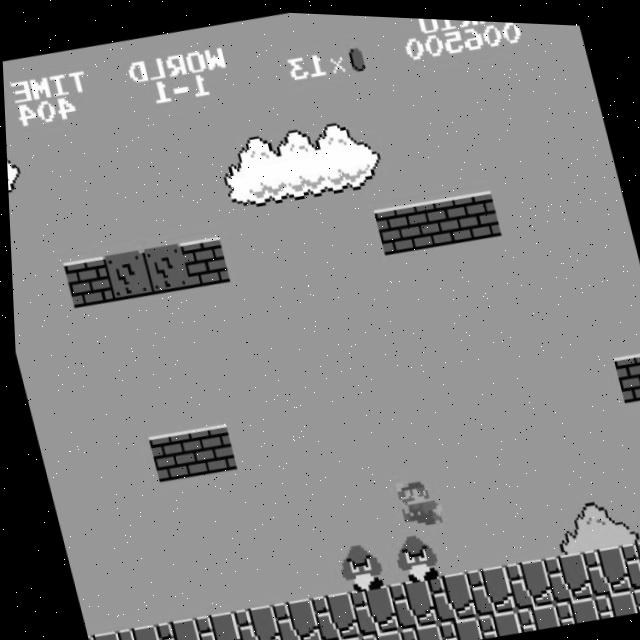1- brick_block: (182, 419, 234, 475), (143, 426, 195, 482), (449, 184, 500, 239), (410, 191, 461, 246), (371, 198, 422, 253), (177, 233, 228, 288), (60, 254, 111, 309), (608, 343, 640, 398)
11- little_mario: (389, 468, 443, 526)
13- mystery_block: (138, 240, 189, 294), (99, 247, 150, 301)
17- undestructible_block: (537, 544, 589, 600), (498, 551, 550, 607), (459, 558, 511, 614), (420, 565, 472, 621), (342, 579, 394, 635), (576, 537, 627, 593), (382, 572, 433, 628), (304, 586, 356, 640), (265, 593, 317, 640), (226, 599, 277, 640), (187, 607, 238, 640), (587, 582, 633, 615), (548, 589, 594, 622), (509, 596, 555, 629), (470, 603, 516, 636), (614, 530, 640, 585), (431, 610, 477, 640), (148, 613, 199, 640), (393, 617, 439, 640), (110, 620, 160, 640), (353, 624, 399, 640), (625, 575, 640, 607), (81, 628, 120, 640), (315, 631, 360, 640), (276, 638, 321, 640)
8- goomba: (385, 524, 439, 583), (330, 534, 384, 593)
